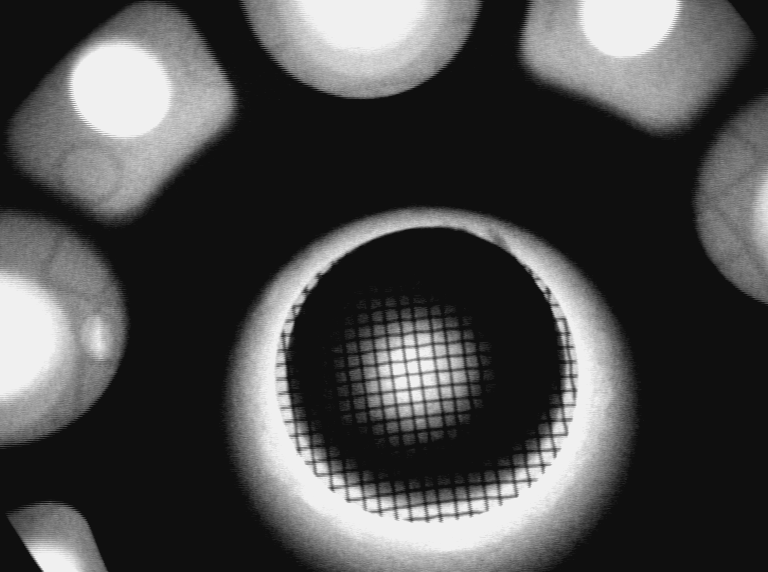defect: (80, 307, 117, 368)
